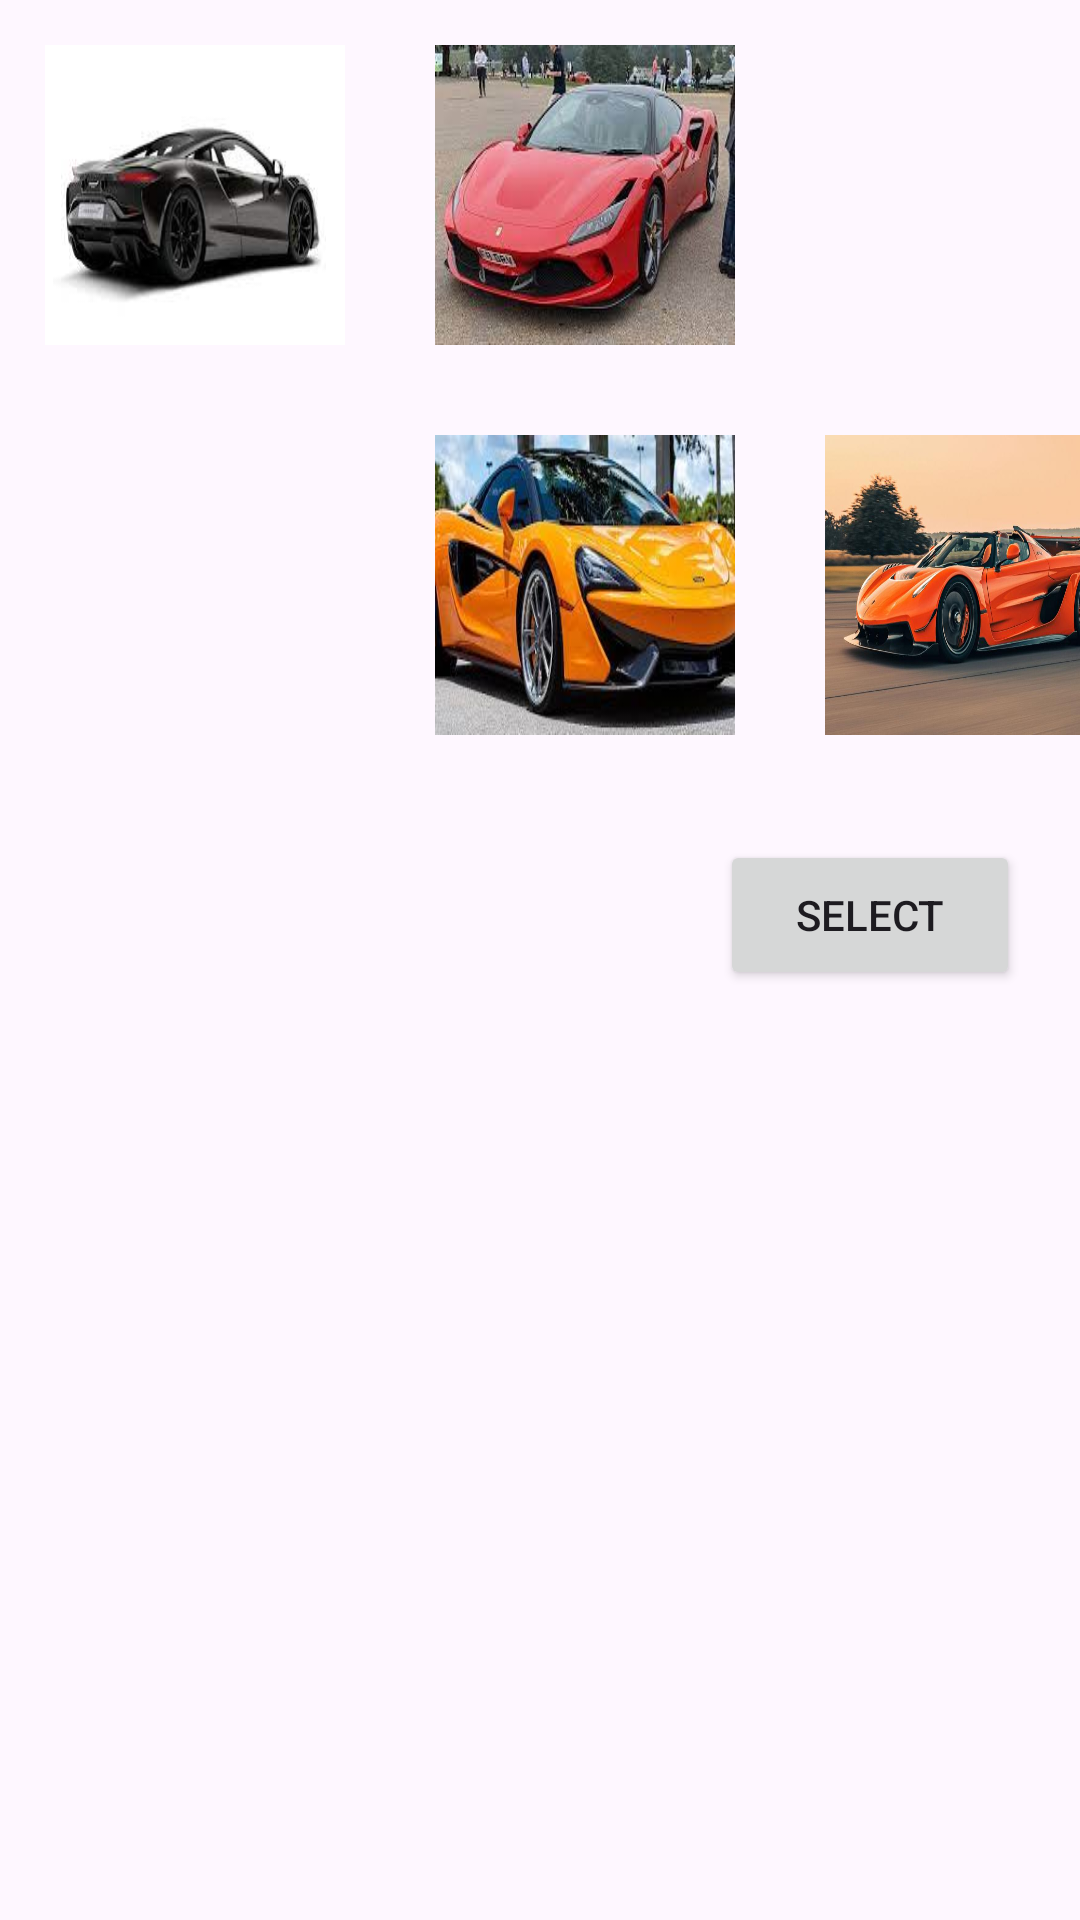

Icon click points for this 1080px×1920px phone screenshot, format (x=x, y=y):
artura: (x=193, y=213)
ferrari: (x=585, y=195)
